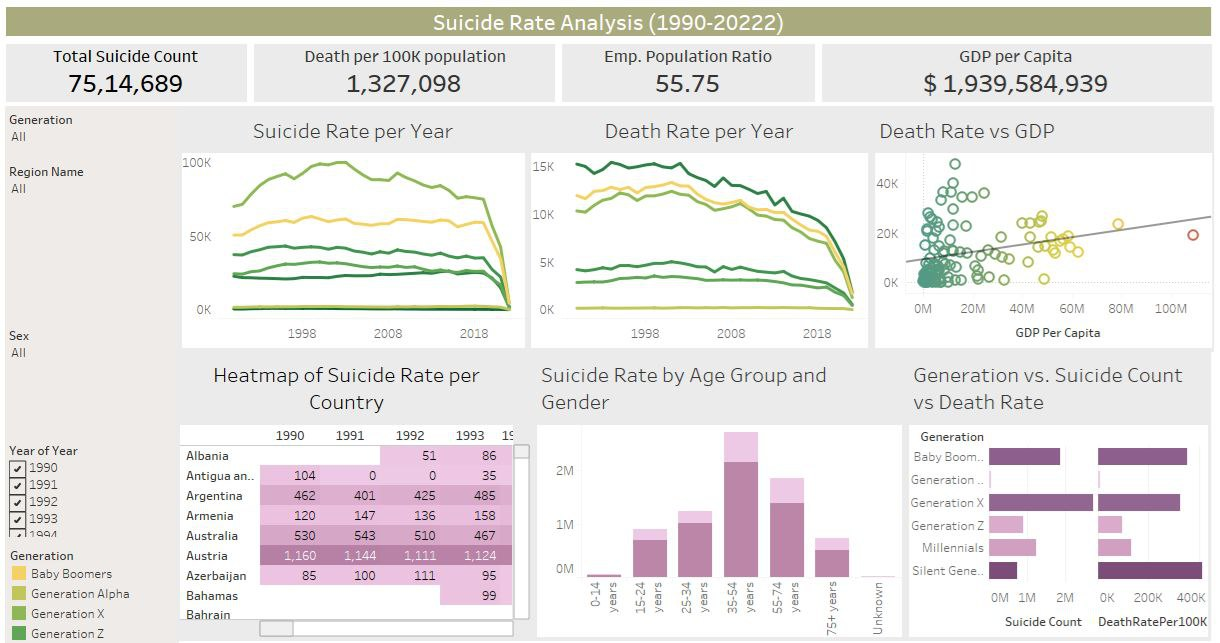

This screenshot's page, from the dashboard's own definition file:
{"tool":"tableau","page":{"name":"Dashboard 2","canvas":[1200,800],"ordinal":1},"visuals":[{"type":"text","box":[2,3,1120,37]},{"type":"worksheet","title":"Suicide KPI","mark":"Automatic","box":[2,40,248,66]},{"type":"worksheet","title":"DeathKPI","mark":"Automatic","box":[250,40,308,66]},{"type":"worksheet","title":"E/P RAtio","mark":"Automatic","box":[558,40,260,66]},{"type":"worksheet","title":"Sheet 12","mark":"Automatic","box":[818,40,304,66]},{"type":"filter","title":"SuicideRate/Time","param":"[federated.0owp9dd198pwdy11mmowh10b1yy6].[none:Generation:nk]","box":[5,106,160,52]},{"type":"worksheet","title":"SuicideRate/Time","mark":"Automatic","rows":["SuicideCount"],"cols":["Year"],"box":[164,106,317,246]},{"type":"worksheet","title":"DeathRate/Time","mark":"Automatic","rows":["DeathRatePer100K"],"cols":["Year"],"box":[481,106,323,246]},{"type":"worksheet","title":"SuicideDate vs GDP","mark":"Automatic","rows":["DeathRatePer100K"],"cols":["GDPPerCapita"],"box":[804,106,317,246]},{"type":"filter","title":"SuicideRate/Time","param":"[federated.0owp9dd198pwdy11mmowh10b1yy6].[none:RegionName:nk]","box":[5,158,160,164]},{"type":"filter","title":"SuicideRate/Time","param":"[federated.0owp9dd198pwdy11mmowh10b1yy6].[none:Sex:nk]","box":[5,322,160,115]},{"type":"worksheet","title":"Sheet 7","mark":"Square","rows":["CountryName"],"cols":["Year"],"box":[162,350,358,291]},{"type":"worksheet","title":"Suicide Rate by Age Group and Gender","mark":"Automatic","rows":["SuicideCount"],"cols":["AgeGroup"],"box":[520,350,298,291]},{"type":"worksheet","title":"Sheet 4","mark":"Bar","rows":["Generation"],"cols":["SuicideCount","DeathRatePer100K"],"box":[818,350,300,291]},{"type":"filter","title":"Sheet 7","param":"[federated.0owp9dd198pwdy11mmowh10b1yy6].[tyr:Year:ok]","box":[5,437,160,104]},{"type":"legend","title":"SuicideRate/Time","param":"[federated.0owp9dd198pwdy11mmowh10b1yy6].[none:Generation:nk]","box":[5,541,160,104]}]}

Visuals, with their boxes on the page's 1200x800 design canvas (x1, y1, x2, y2). These are canvas units, not pixel positions in the 1220x643 screenshot, which may show the page scaled, cropped or inside an application window:
text: 2 3 1122 40
"Suicide KPI" worksheet: 2 40 250 106
"DeathKPI" worksheet: 250 40 558 106
"E/P RAtio" worksheet: 558 40 818 106
"Sheet 12" worksheet: 818 40 1122 106
"SuicideRate/Time" filter: 5 106 165 158
"SuicideRate/Time" worksheet: 164 106 481 352
"DeathRate/Time" worksheet: 481 106 804 352
"SuicideDate vs GDP" worksheet: 804 106 1121 352
"SuicideRate/Time" filter: 5 158 165 322
"SuicideRate/Time" filter: 5 322 165 437
"Sheet 7" worksheet (Square marks): 162 350 520 641
"Suicide Rate by Age Group and Gender" worksheet: 520 350 818 641
"Sheet 4" worksheet (Bar marks): 818 350 1118 641
"Sheet 7" filter: 5 437 165 541
"SuicideRate/Time" legend: 5 541 165 645
